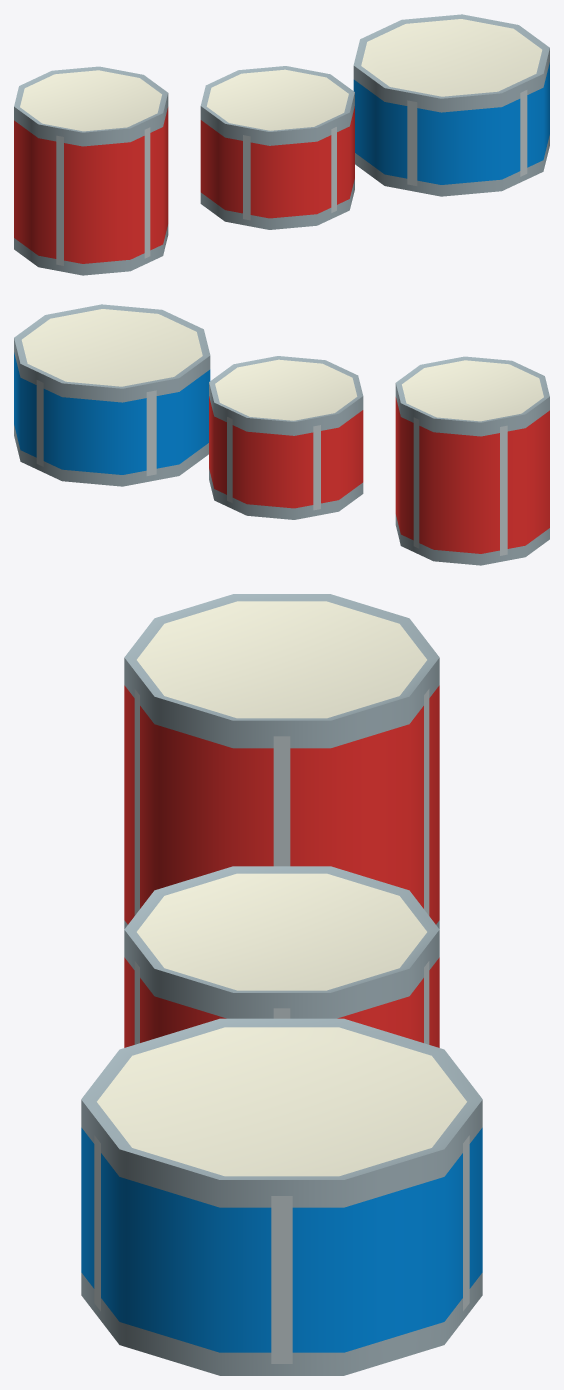
File: toy_026.glb
3 views of the same model, one above another, from view 1: azimuth 30°, elevation 25°; view 2: azimuth 150°, elevation 25°; view 3: azimuth 270°, elevation 25° (orthographic). The views are drawn at different scales.
Visible parts, largest first — view 1: toy_026; view 2: toy_026; view 3: toy_026.
Part boxes in pixels (x1=…): toy_026: x1=14, y1=14, x2=549, y2=275; toy_026: x1=14, y1=304, x2=549, y2=565; toy_026: x1=81, y1=594, x2=482, y2=1375.
Bounding box in the file's own units: 0.9 × 0.2411 × 0.3072.
Materials: 1 (1 with a texture image).
